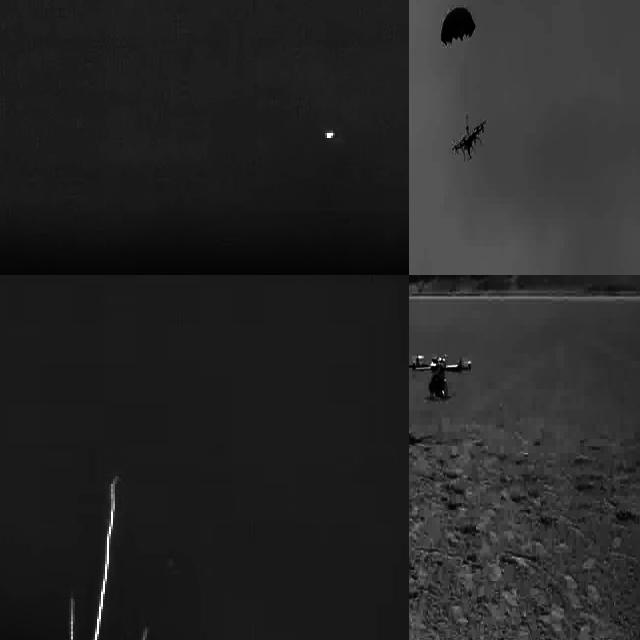0: (161, 554, 185, 579)
1: (321, 126, 345, 150)
drone: (409, 351, 475, 403), (446, 118, 488, 162)
